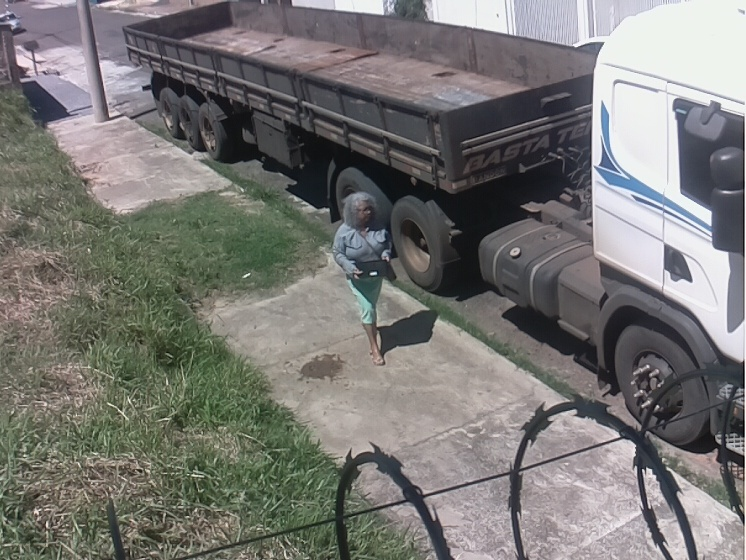person: (332, 192, 392, 370)
